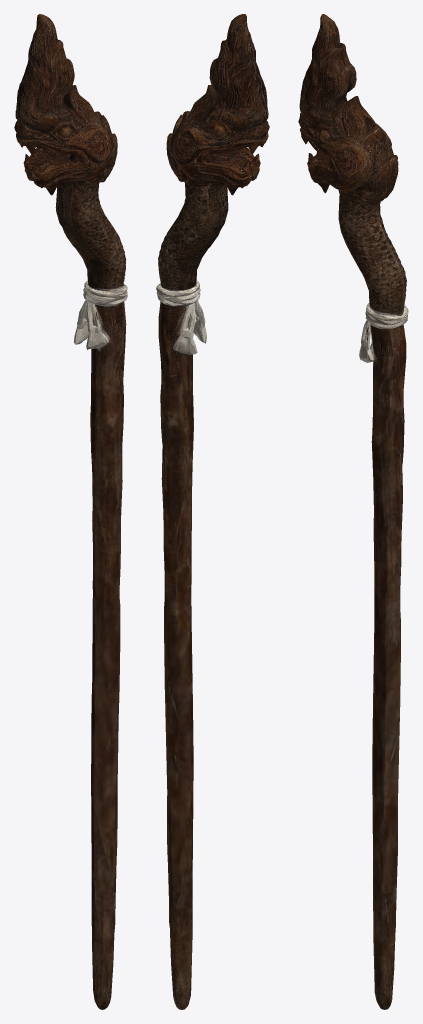
The model's file is w3nagastaff.glb.
3 renders of one model, left to right at view 1: azimuth 30°, elevation 25°; view 2: azimuth 150°, elevation 25°; view 3: azimuth 330°, elevation 25°, orthographic. The views are drawn at different scales.
Visible parts, largest first — view 1: output_unwrapped; view 2: output_unwrapped; view 3: output_unwrapped.
Part boxes in pixels (x1,y1,x2,y2): output_unwrapped: [14, 14, 127, 1009]; output_unwrapped: [156, 14, 269, 1009]; output_unwrapped: [298, 14, 408, 1009].
Bounding box in the file's own units: 0.1781 × 1.6 × 0.1127.
Materials: 1 (1 with a texture image).
